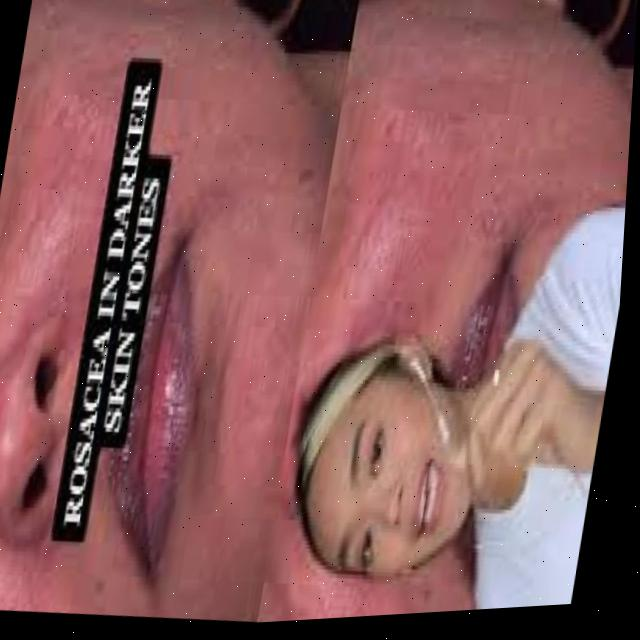Rosacea: (331, 73, 538, 352), (0, 67, 111, 337), (259, 508, 433, 622), (0, 535, 93, 620), (0, 373, 17, 507)
